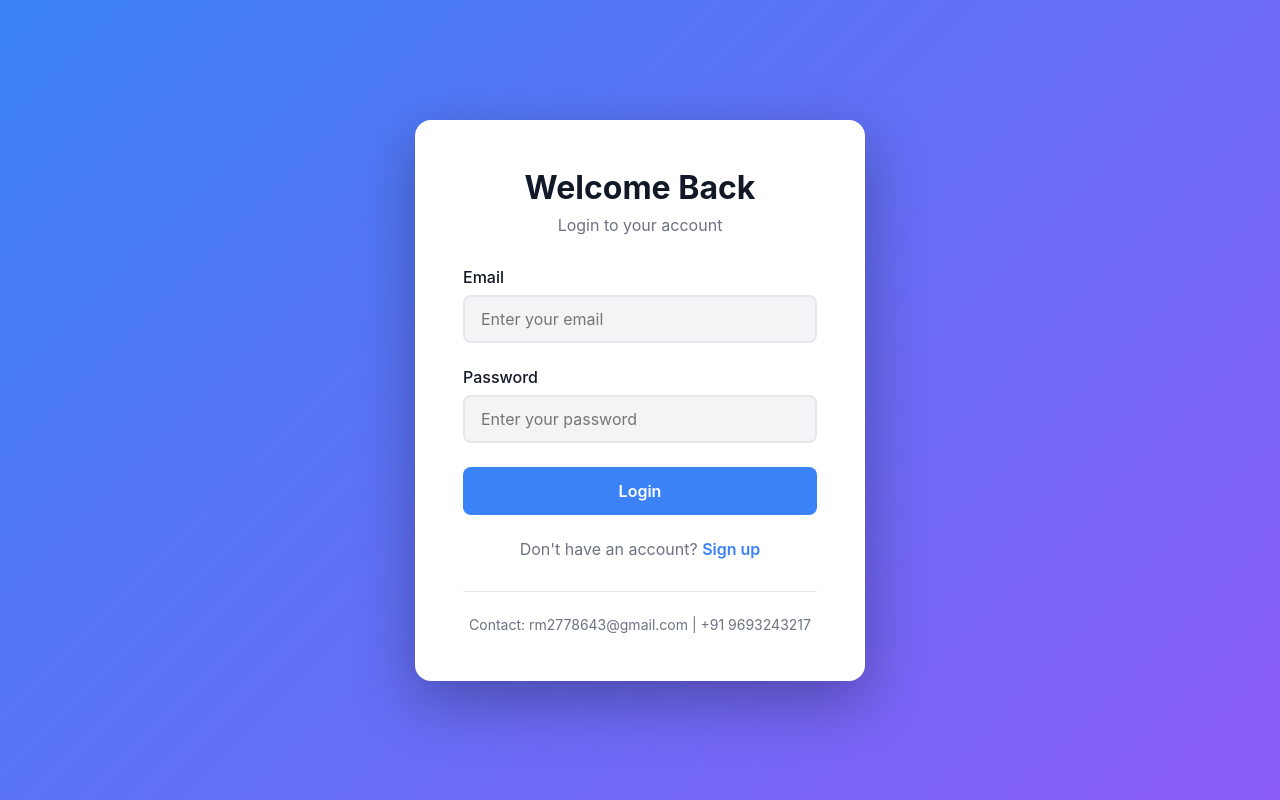
it: Login Component › shows validation error for short password
Type "123" into the password field labelled "Password".
click(640, 418); type("123")  # box [463,394,817,442]
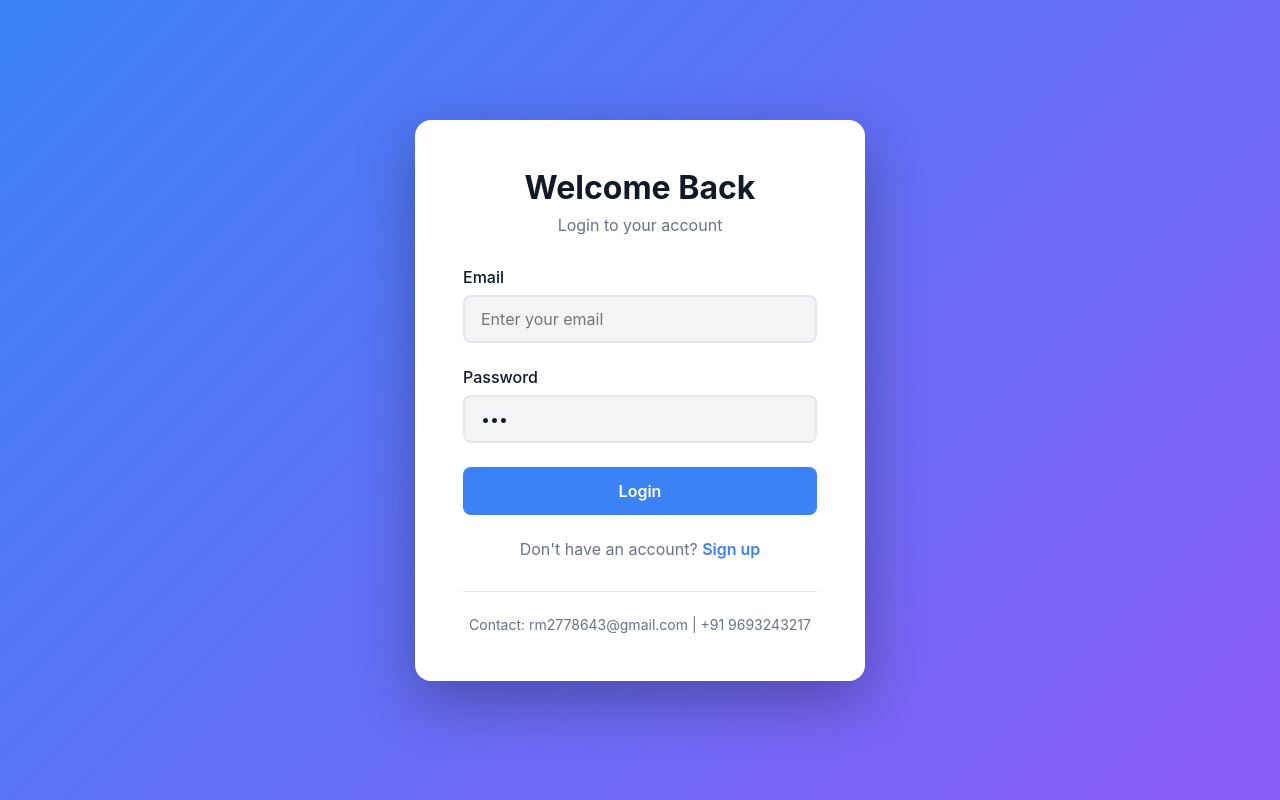
Click the button "Login".
click(640, 490)  # box [463,466,817,514]
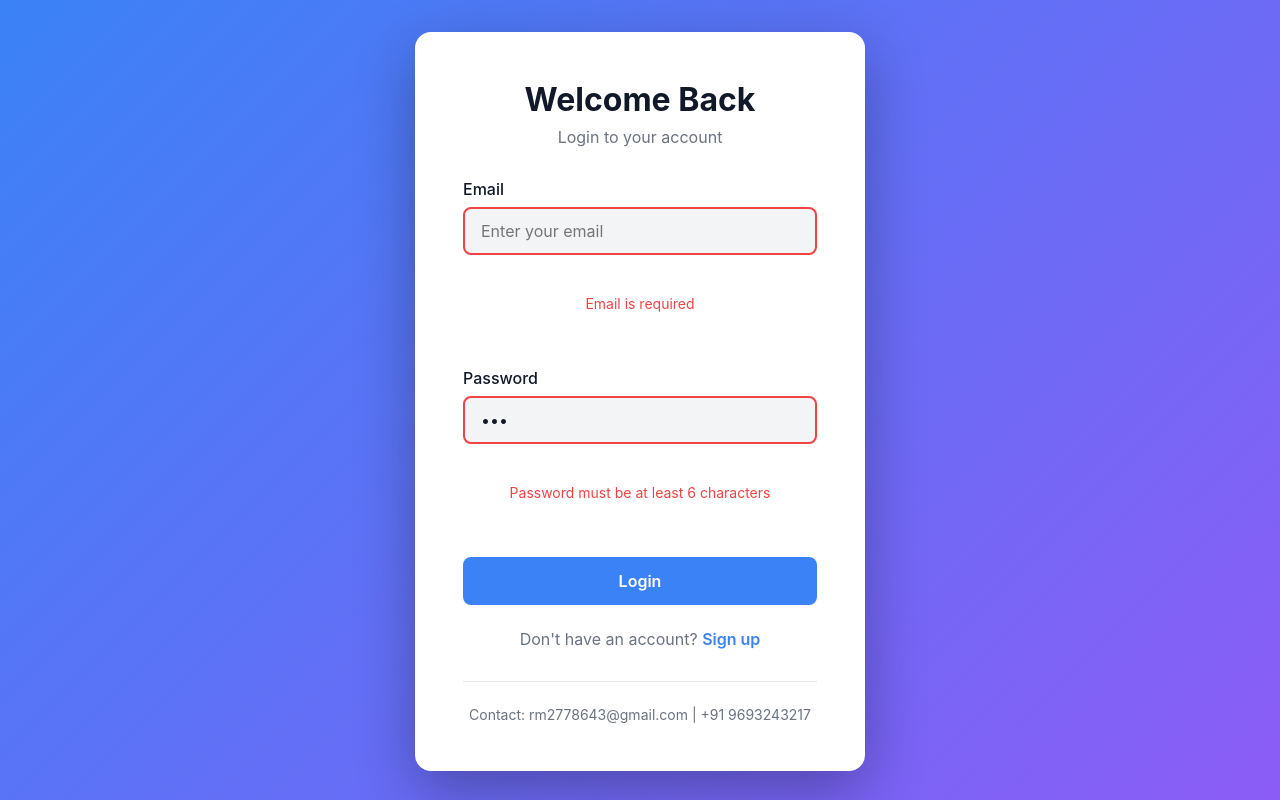
Expected: the text "Password must be at least 6 characters" is shown, [479,468,801,517]
